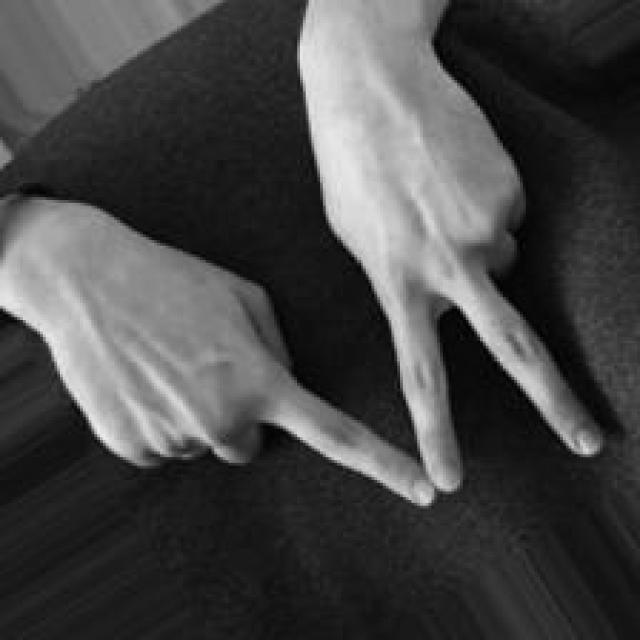N: (46, 72, 614, 512)
